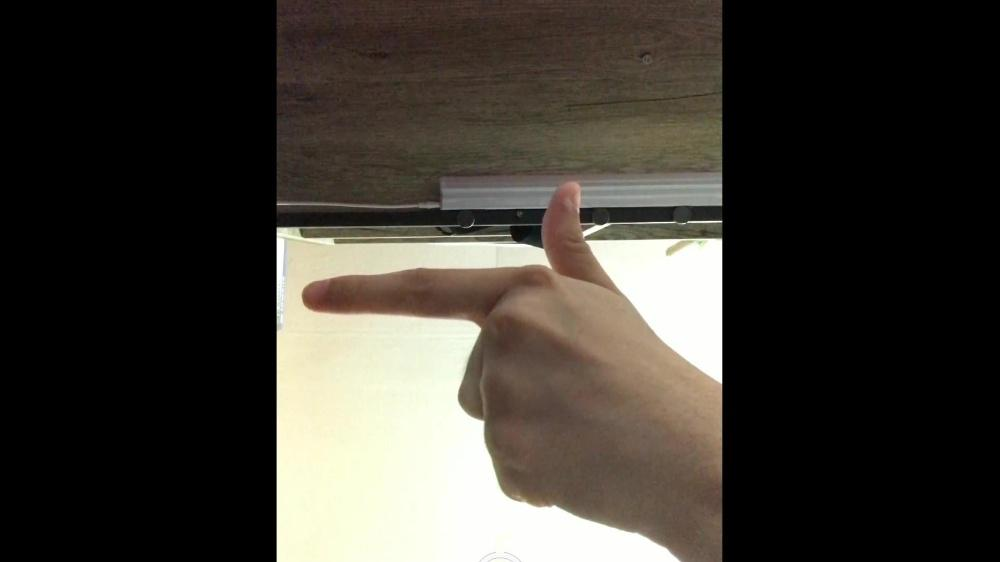g: (303, 179, 655, 526)
